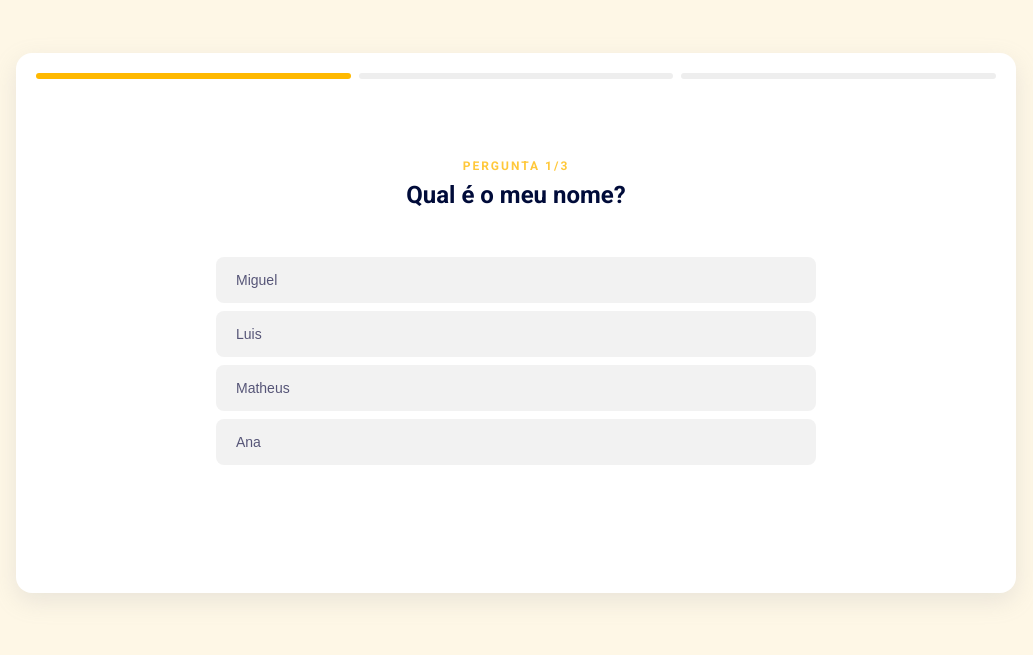
Quiz App › show if the answer is incorrect
Expected: the heading reads "Qual é o meu nome?", x1=406 y1=181 x2=626 y2=209
Click the button "Luis" at (249,334), box x1=216 y1=311 x2=816 y2=357
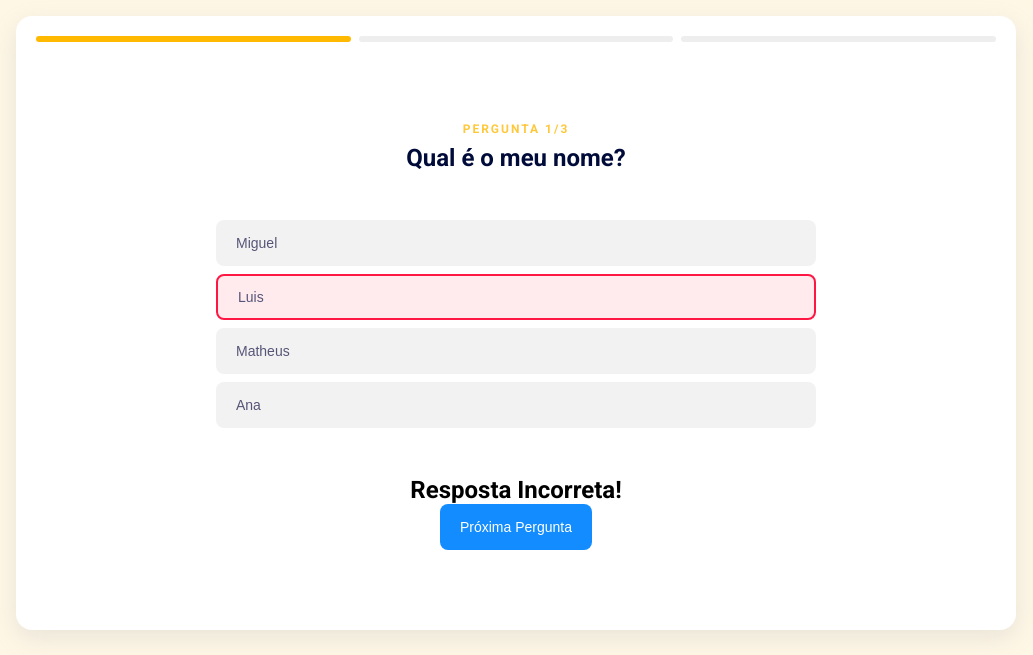
Result: the heading "Resposta Incorreta!" is shown at x1=410 y1=476 x2=622 y2=504
